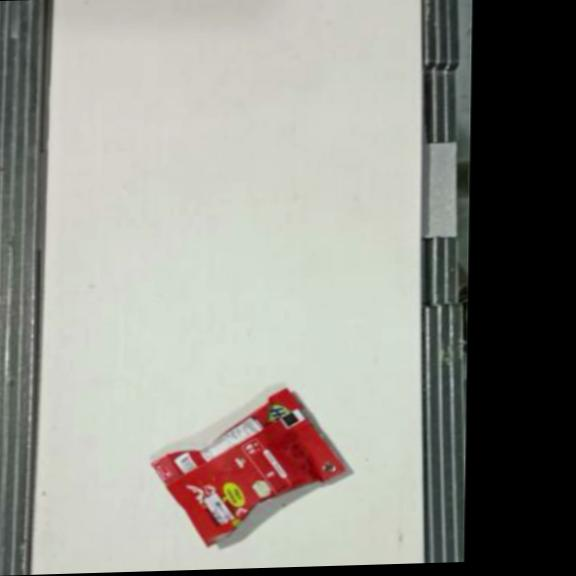Plastik: (149, 384, 347, 550)
